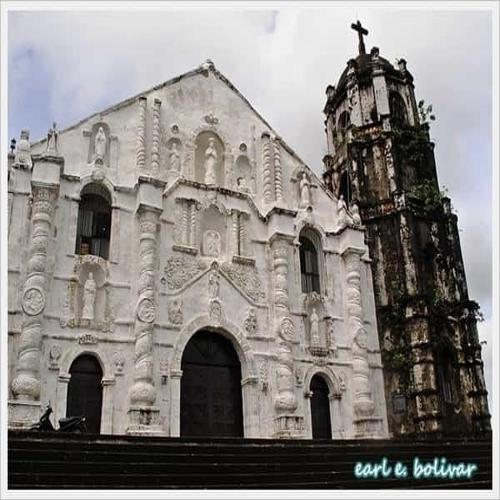Daraga Church: (16, 18, 491, 437)
